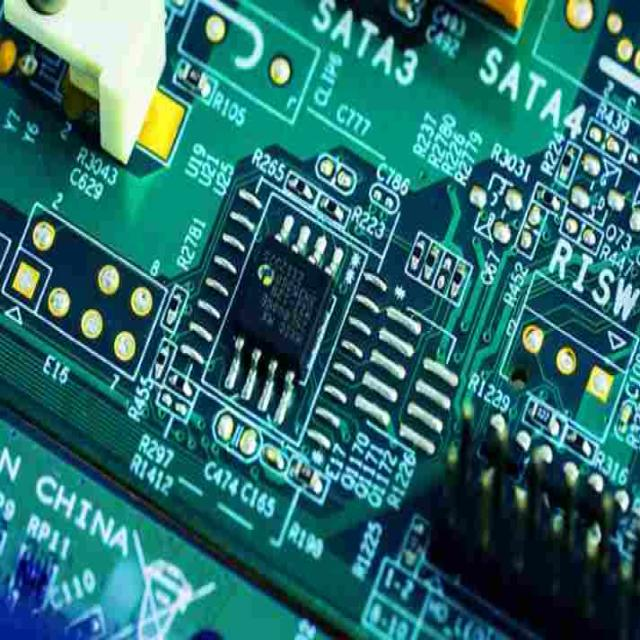pcb: (1, 0, 637, 637), (148, 139, 475, 523)
